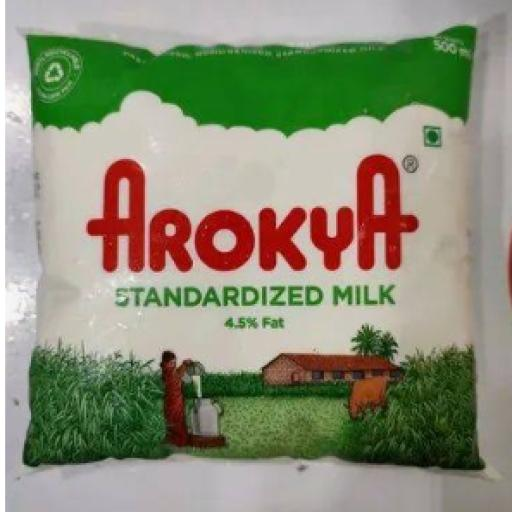green_milk: (25, 27, 480, 468), (261, 208, 306, 270)
